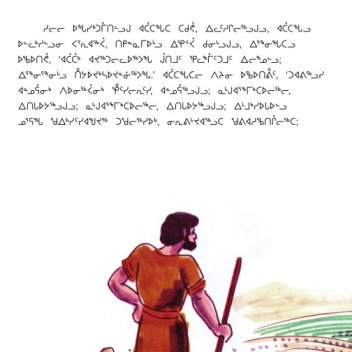inuktitut: (16, 95, 289, 112), (16, 67, 326, 81), (18, 114, 299, 129), (40, 20, 312, 35), (15, 51, 283, 66), (14, 36, 296, 50), (17, 82, 292, 96)
